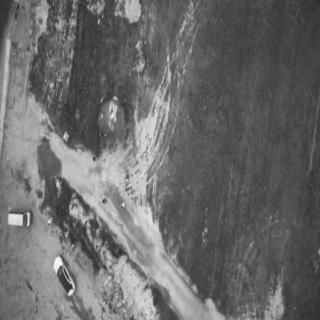Fire: (109, 96, 121, 132)
